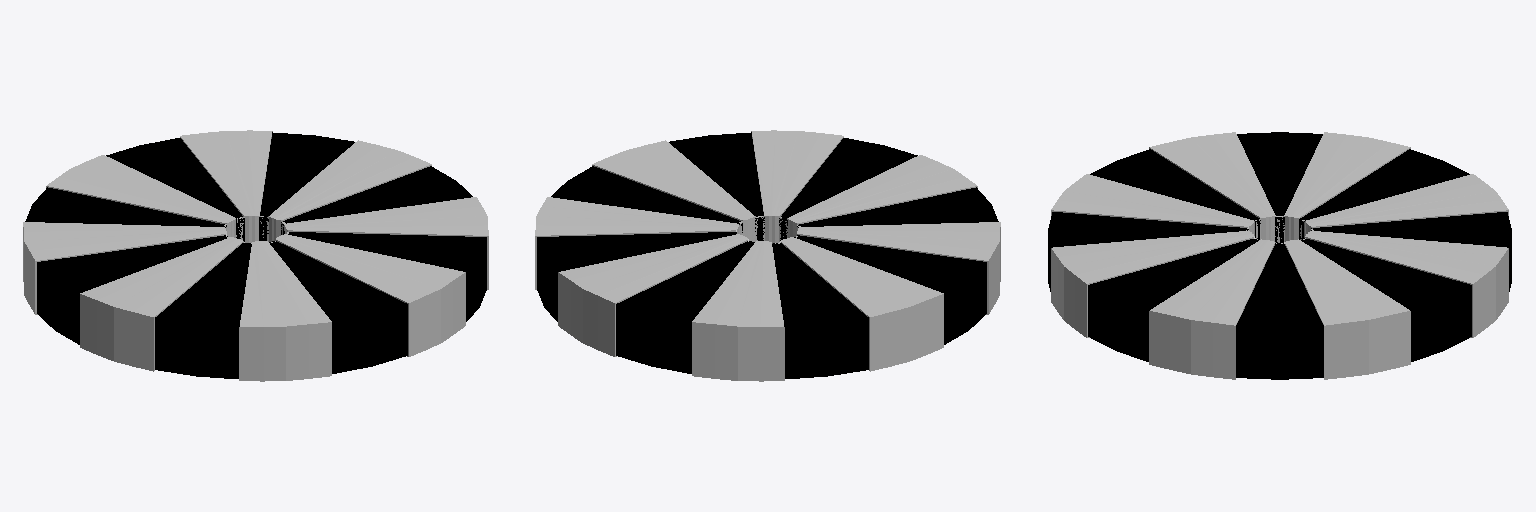
Rendered from car_bed_black_white_wheel.obj.
The picture shows the model from 3 angles: view 1: azimuth 30°, elevation 25°; view 2: azimuth 150°, elevation 25°; view 3: azimuth 270°, elevation 25°; orthographic projection.
Visible parts, largest first — view 1: dark_blue_bed.001_Circle.002, dark_blue_bed_Circle.001; view 2: dark_blue_bed.001_Circle.002, dark_blue_bed_Circle.001; view 3: dark_blue_bed.001_Circle.002, dark_blue_bed_Circle.001.
Boxes of the visible parts, x1,y1,x2,y2 form: dark_blue_bed.001_Circle.002: [23, 130, 488, 381]; dark_blue_bed_Circle.001: [25, 132, 486, 378]; dark_blue_bed.001_Circle.002: [535, 130, 1000, 381]; dark_blue_bed_Circle.001: [537, 132, 998, 378]; dark_blue_bed.001_Circle.002: [1051, 132, 1508, 379]; dark_blue_bed_Circle.001: [1048, 132, 1511, 379].
Size of the model in its own units: 2 by 0.2607 by 2.